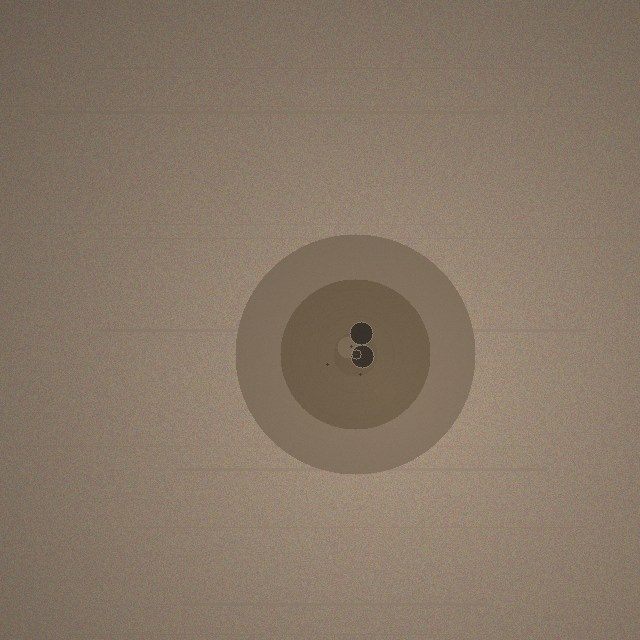shrinkage: (235, 234, 475, 474)
